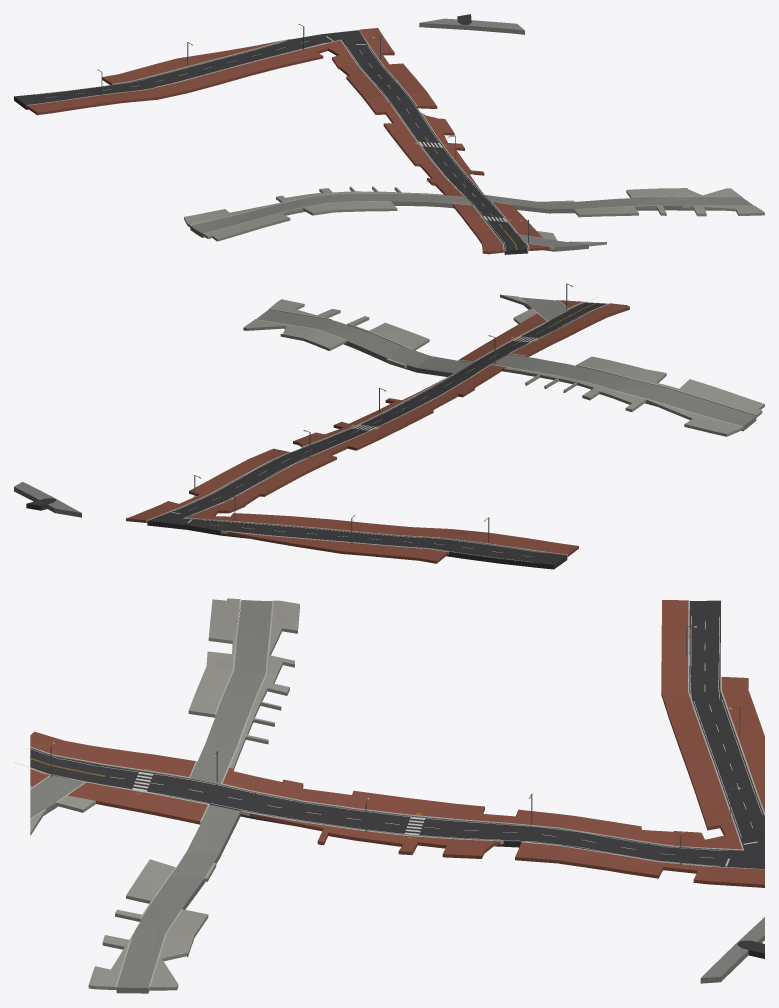
3 views of the same model, one above another, from view 1: azimuth 30°, elevation 25°; view 2: azimuth 150°, elevation 25°; view 3: azimuth 270°, elevation 25° (orthographic). The views are drawn at different scales.
Bounding box in the file's own units: 147 × 22.11 × 149.
